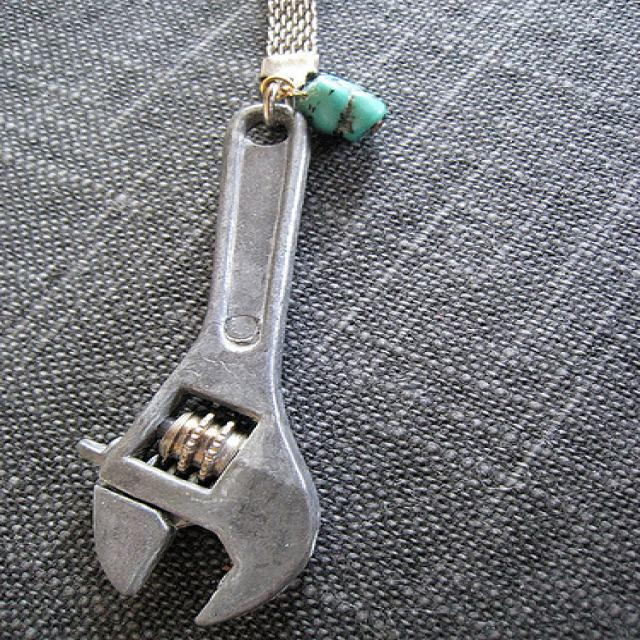wrench: (53, 115, 385, 640)
